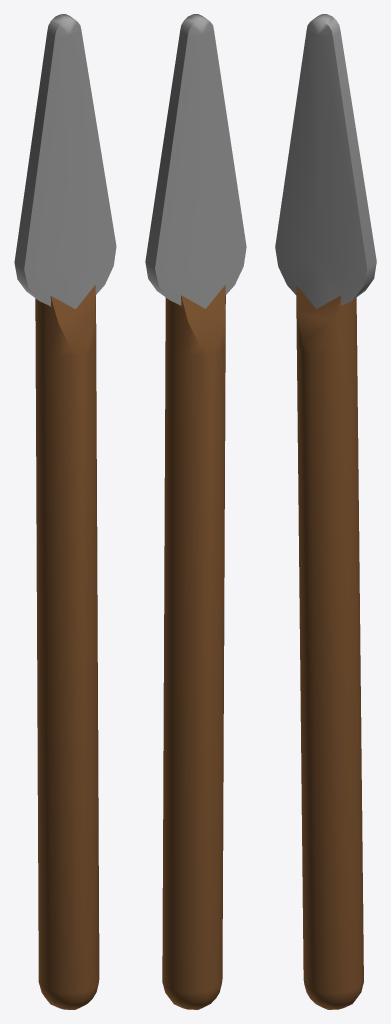
3 views of the same model, side by side, from view 1: azimuth 30°, elevation 25°; view 2: azimuth 210°, elevation 25°; view 3: azimuth 330°, elevation 25° (orthographic).
Visible parts, largest first — view 1: SOLID-WHITE_115-material.001, SOLID-WHITE_115-material.306; view 2: SOLID-WHITE_115-material.001, SOLID-WHITE_115-material.306; view 3: SOLID-WHITE_115-material.001, SOLID-WHITE_115-material.306.
Part boxes in pixels (x1,y1,x2,y2): SOLID-WHITE_115-material.001: (35, 285, 99, 1009); SOLID-WHITE_115-material.306: (14, 14, 116, 309); SOLID-WHITE_115-material.001: (162, 285, 225, 1009); SOLID-WHITE_115-material.306: (145, 14, 246, 308); SOLID-WHITE_115-material.001: (296, 285, 363, 1009); SOLID-WHITE_115-material.306: (275, 14, 376, 308).
Size of the model in its own units: 24.25 by 249 by 14.94.
